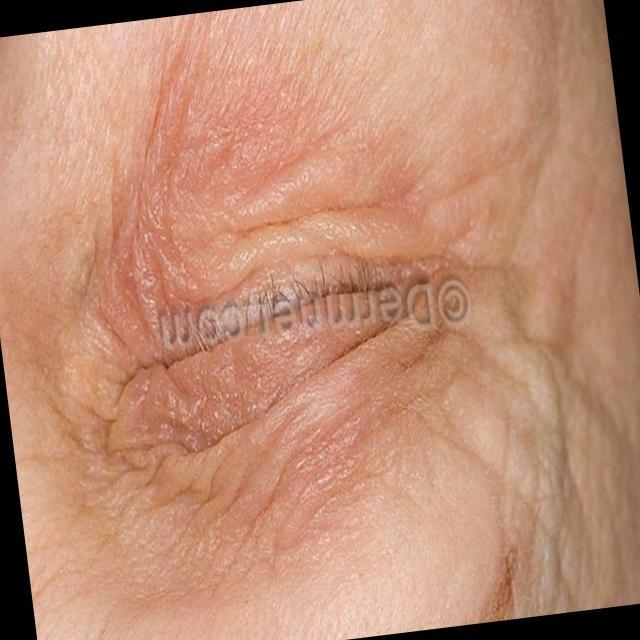Eczema: (99, 75, 460, 468)
